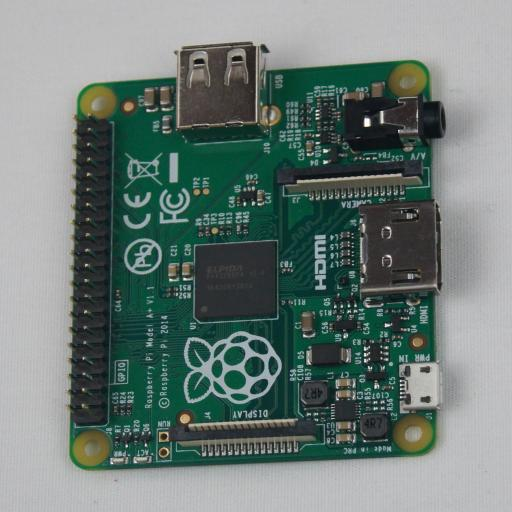Raspberry Pi A-: (70, 41, 446, 470)
